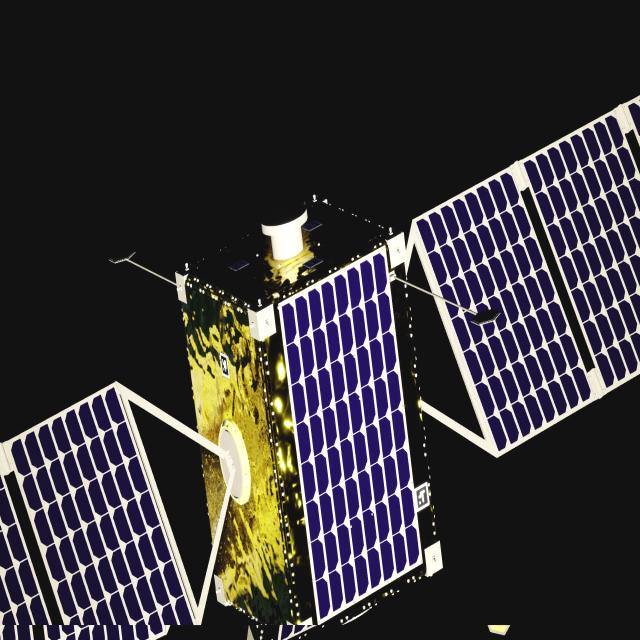medium_debris: (0, 95, 640, 640)
